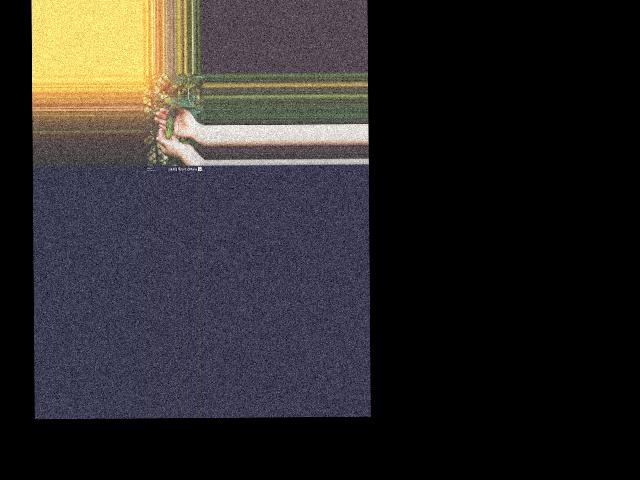cucumber: (164, 108, 176, 138)
